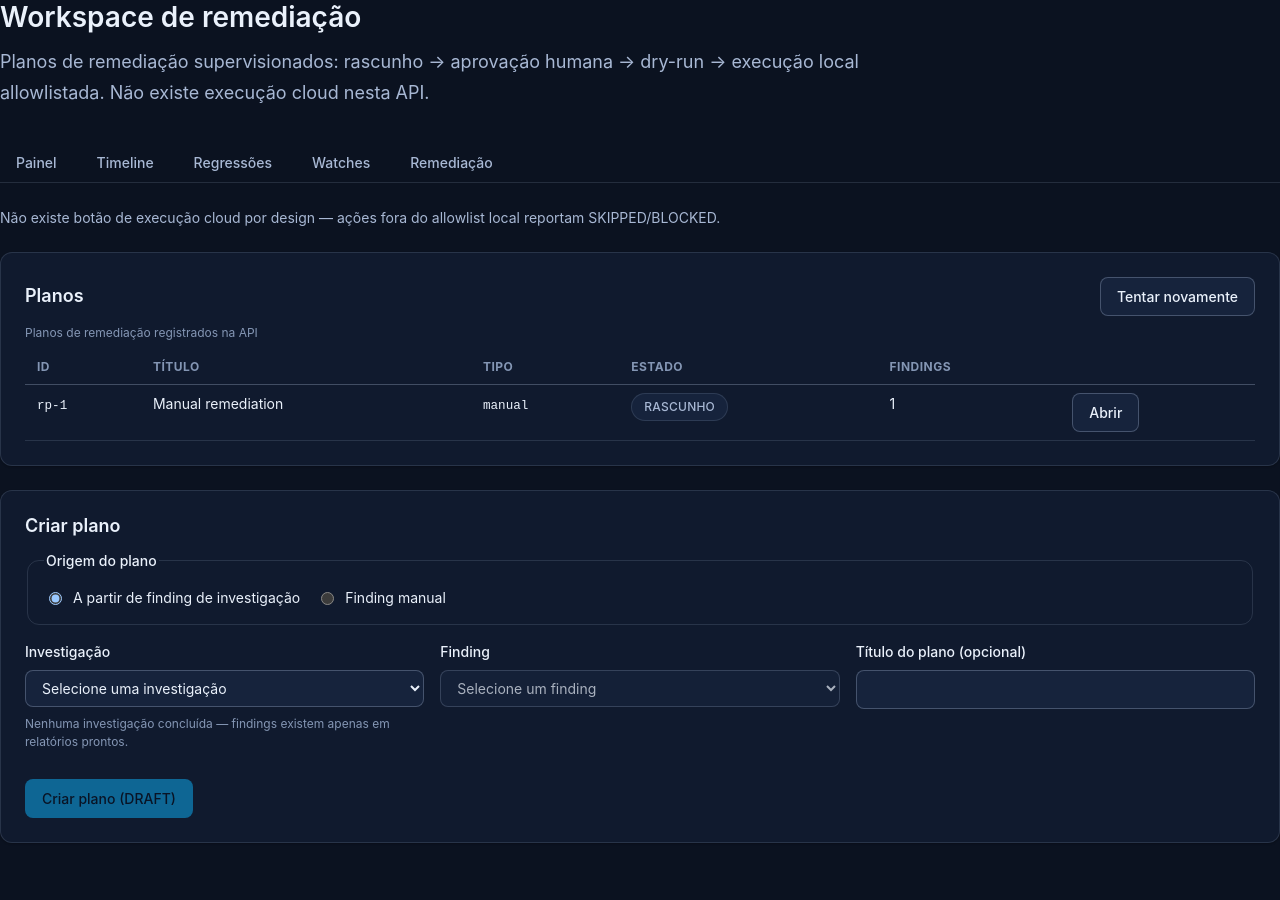
it: RemediationWorkspaceComponent › lists plans and loads full detail on open
This screenshot has width=1280, height=900.
Click the button "Abrir".
click(1106, 413)  # box [1072,393,1139,432]
(page scrolled)
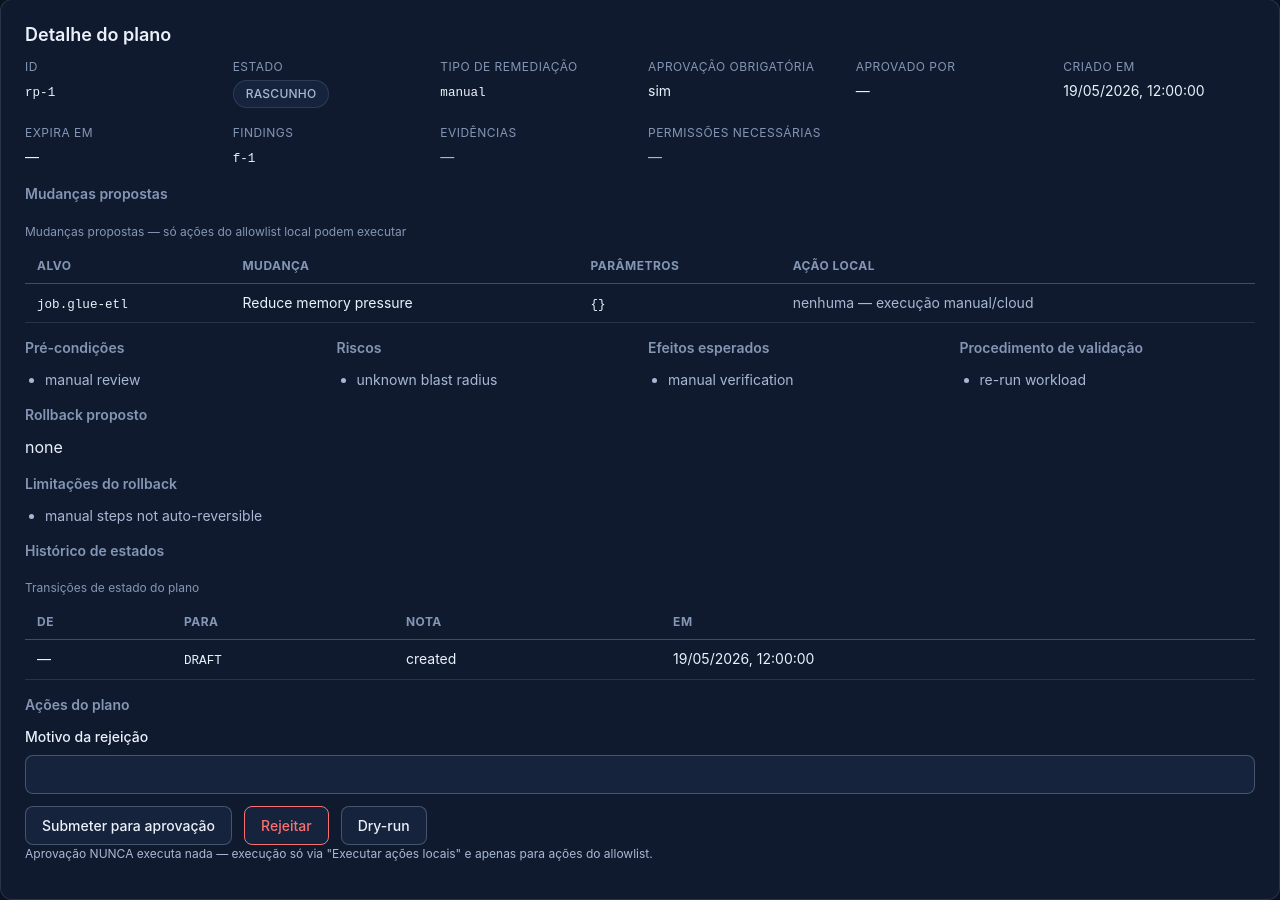
Check: the text "job.glue-etl" is shown, box [37,298,128,312]
Check: the text "Reduce memory pressure" is shown, box [230,283,579,323]
Check: the text "unknown blast radius" is shown, box [356,371,497,388]
